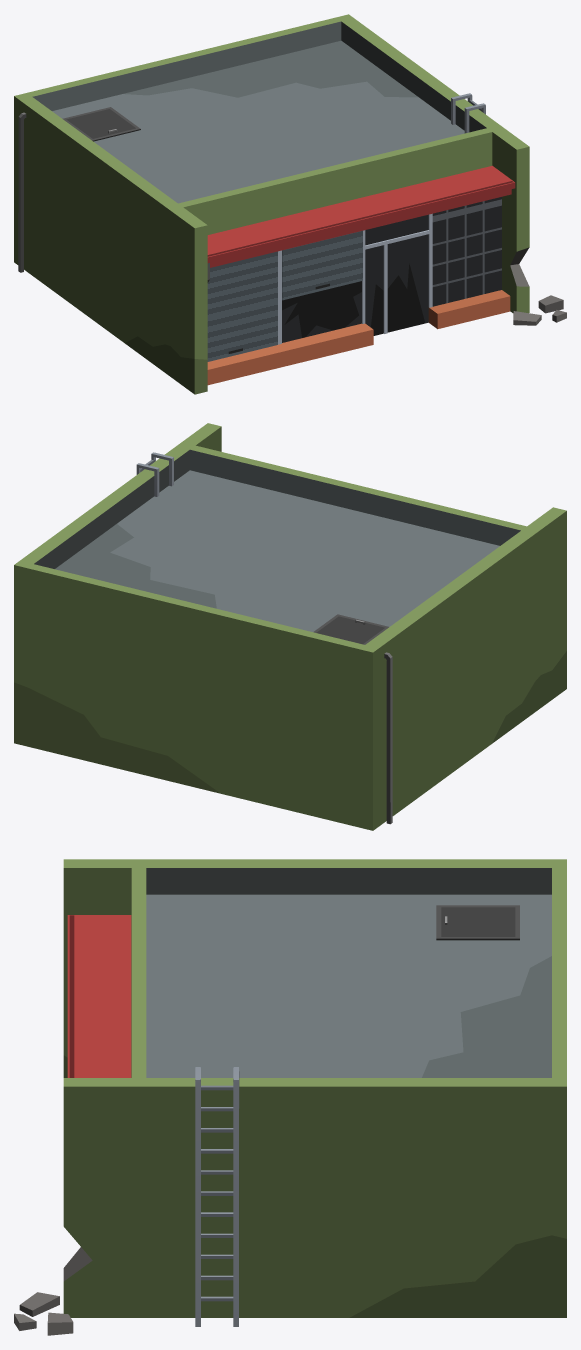
Rendered from SA_Bld_ShopSmall_01.glb.
3 views of the same model, one above another, from view 1: azimuth 30°, elevation 25°; view 2: azimuth 150°, elevation 25°; view 3: azimuth 270°, elevation 25° (orthographic). The views are drawn at different scales.
Parts seen in each view (by area): view 1: SA_Bld_ShopSmall_01; view 2: SA_Bld_ShopSmall_01; view 3: SA_Bld_ShopSmall_01.
Part boxes in pixels (x1=…): SA_Bld_ShopSmall_01: x1=14, y1=14, x2=566, y2=394; SA_Bld_ShopSmall_01: x1=14, y1=423, x2=566, y2=830; SA_Bld_ShopSmall_01: x1=14, y1=859, x2=566, y2=1335.
Bounding box in the file's own units: 5.78 × 2.66 × 5.39.
Materials: 1 (1 with a texture image).
